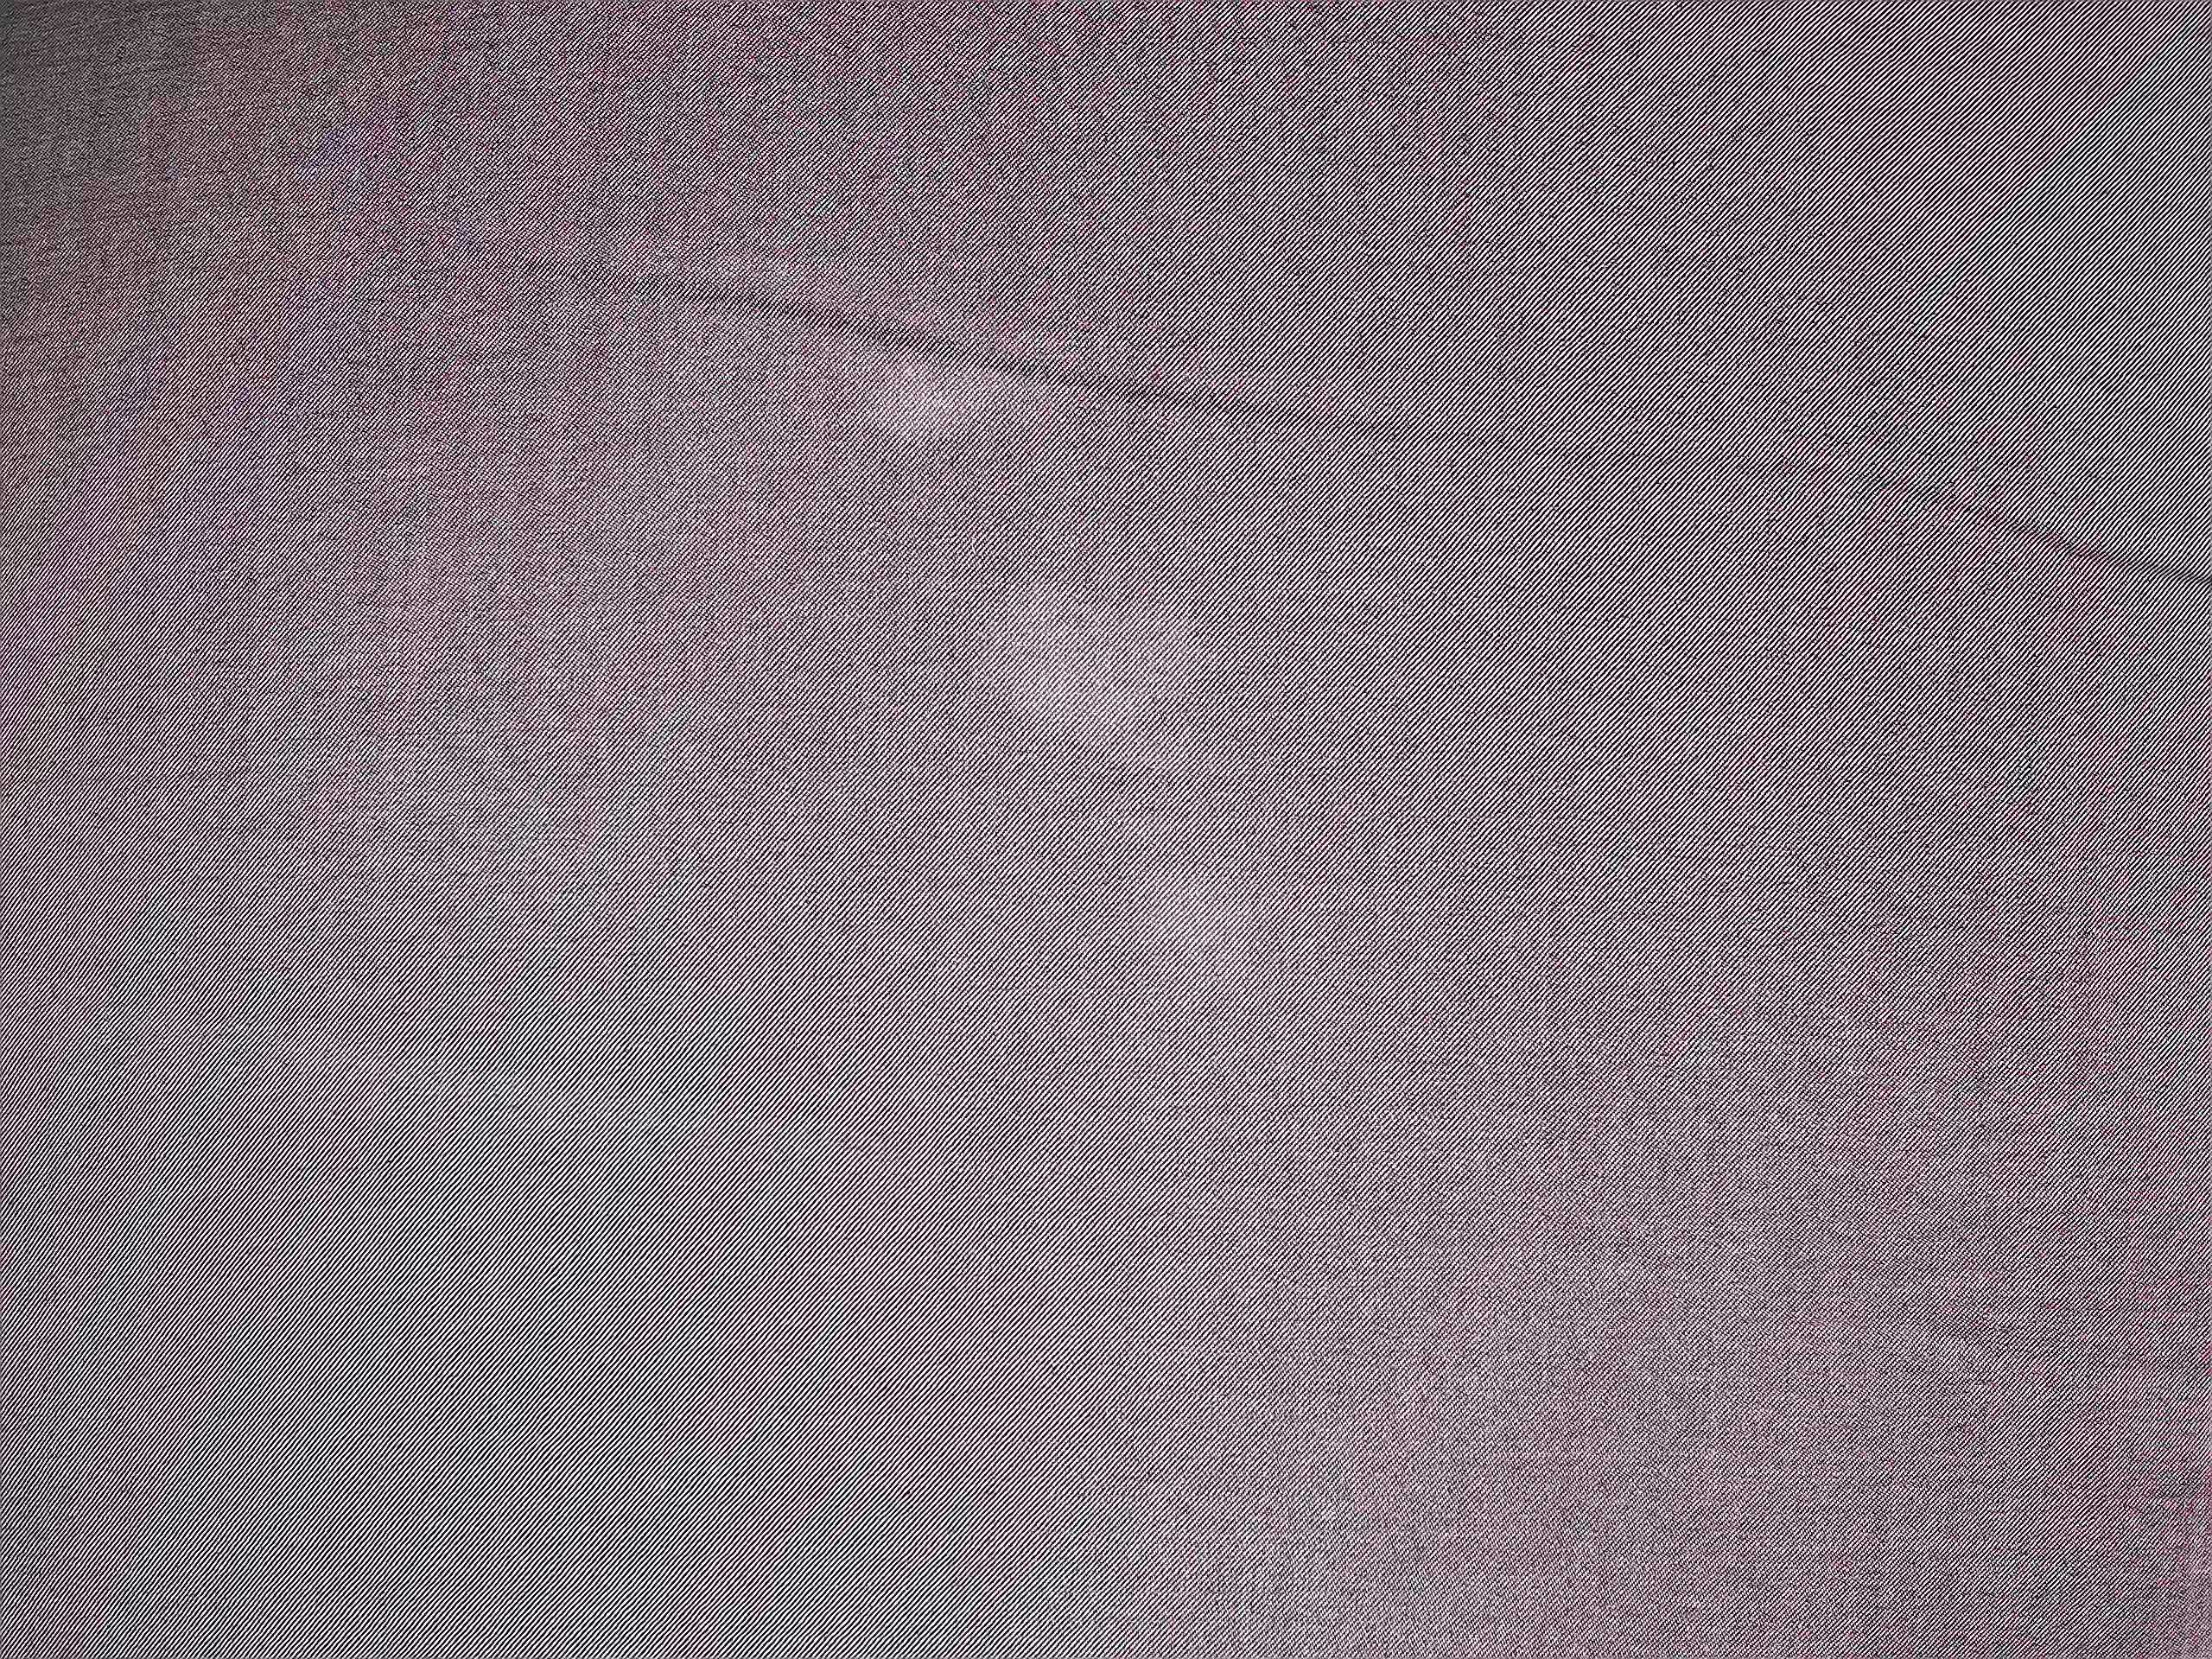stains: (966, 552, 1224, 768), (1133, 824, 1333, 1019), (843, 296, 1051, 482)
